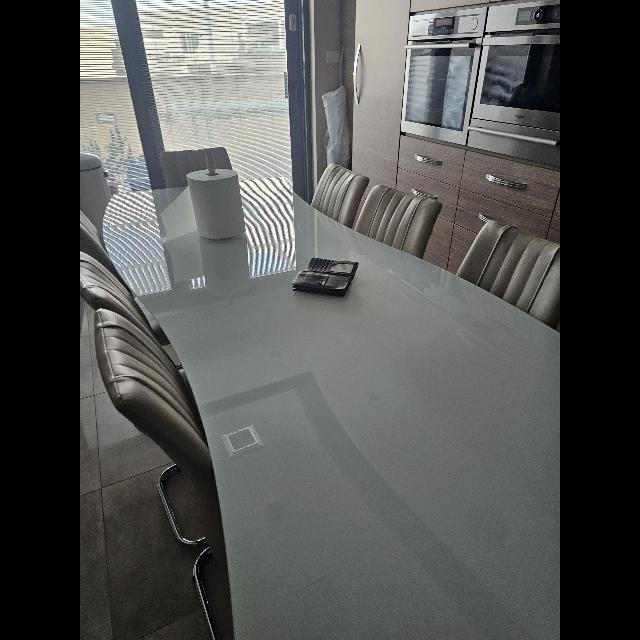Wallet: (292, 257, 358, 297)
